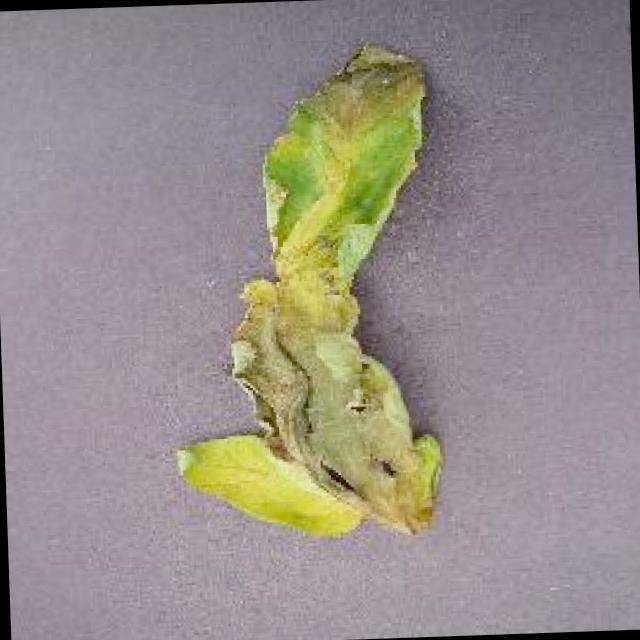Tomato late blight leaf: (156, 34, 448, 548)
